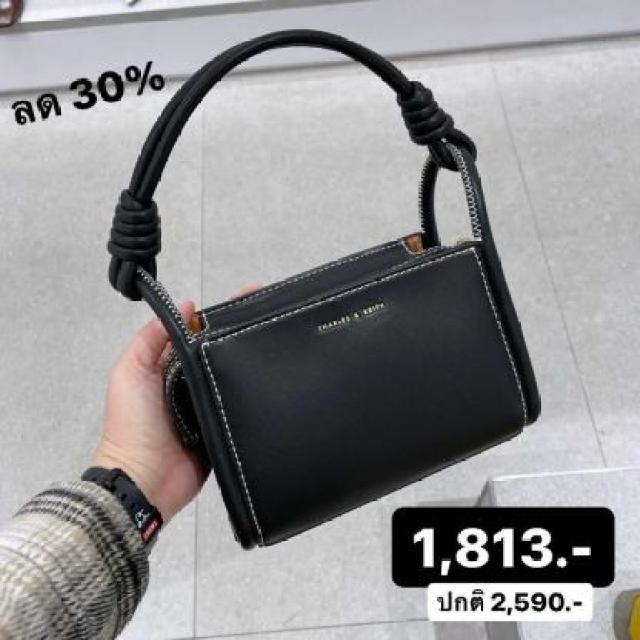Bag: (54, 32, 640, 611)
